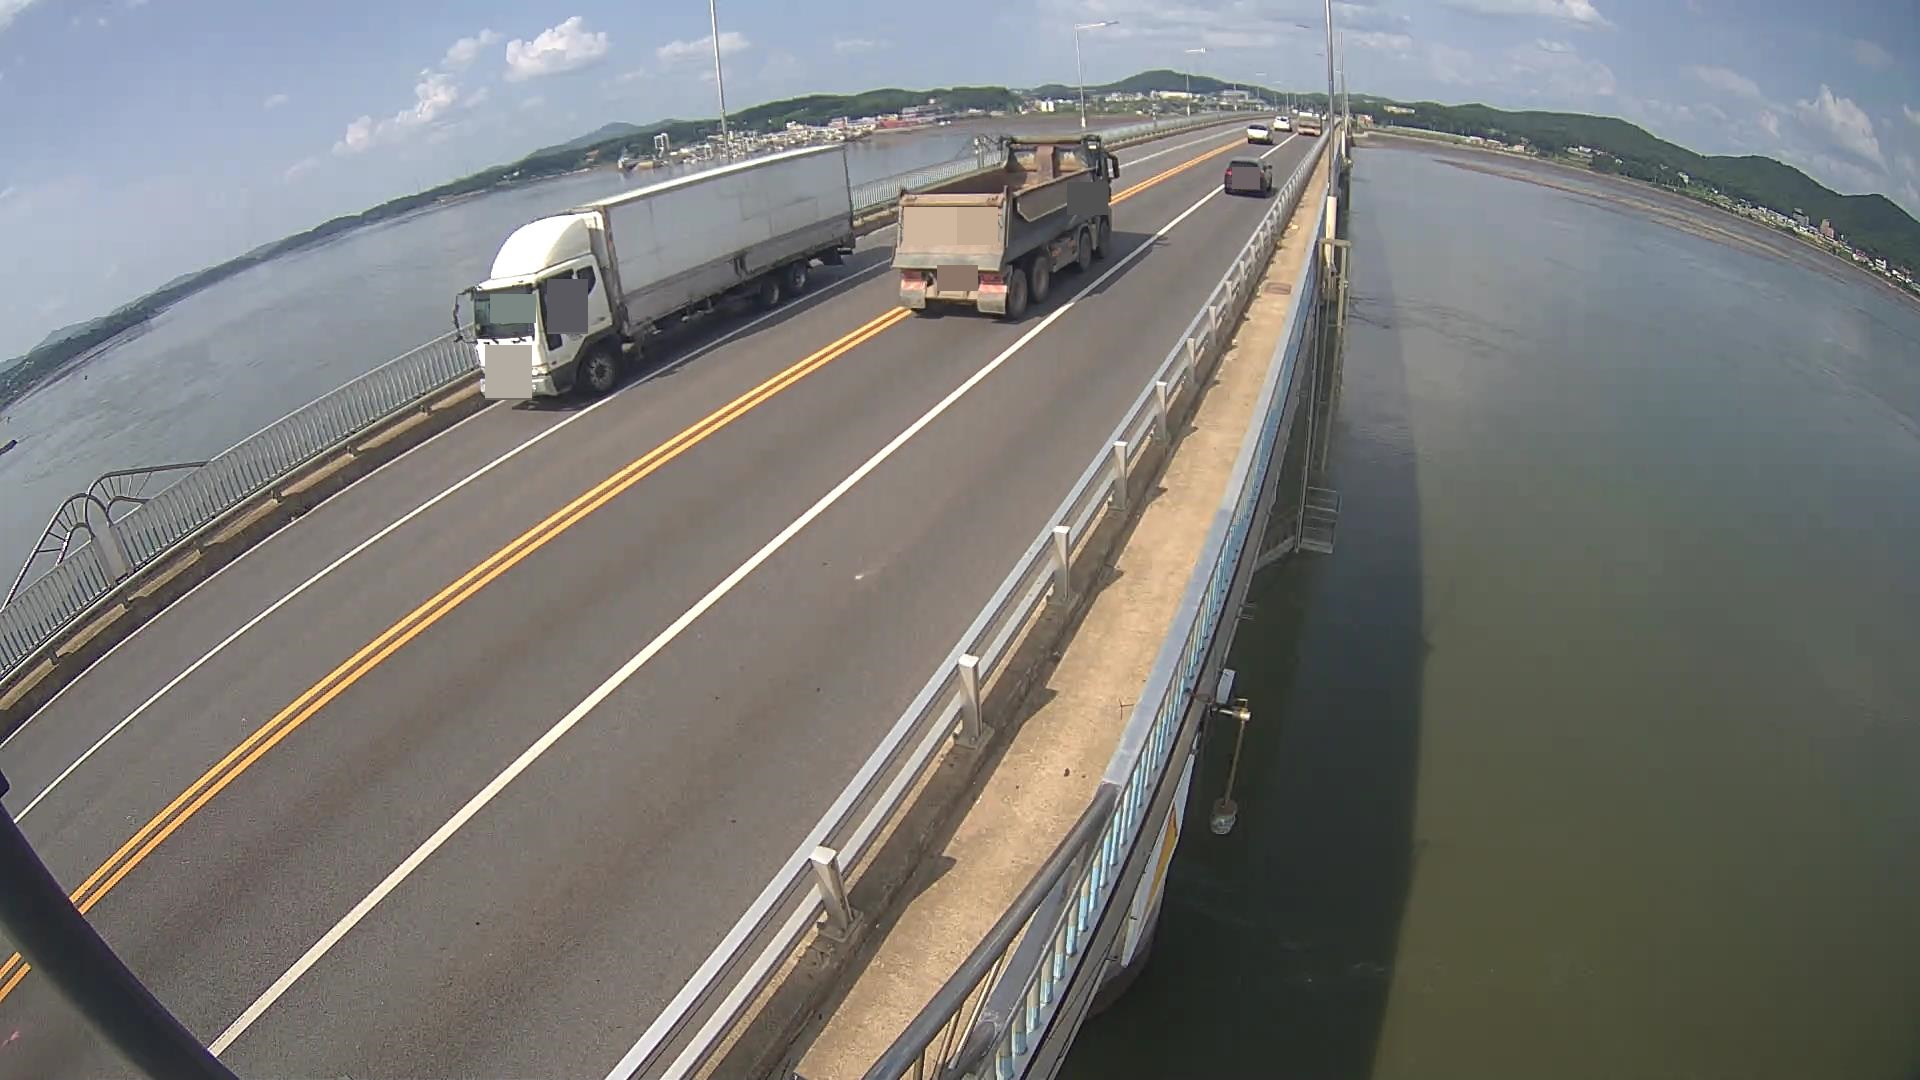정상차량: (889, 135, 1121, 322)
